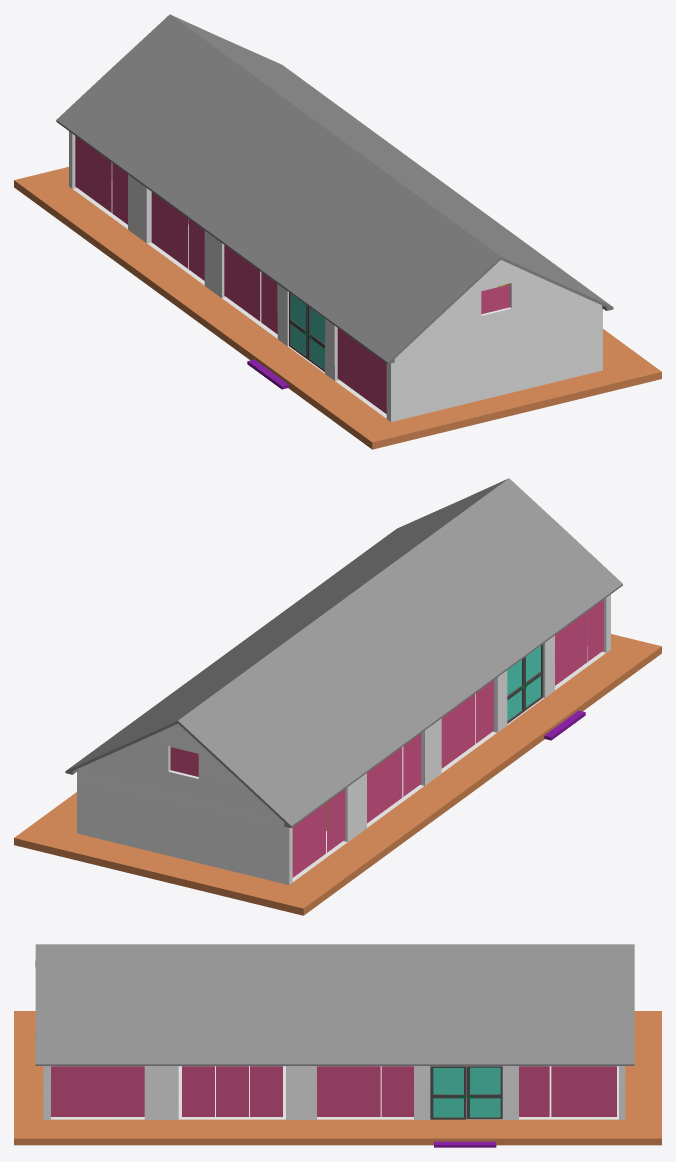
Rendered from HouseOriginal2.obj.
3 views of the same model, one above another, from view 1: azimuth 30°, elevation 25°; view 2: azimuth 150°, elevation 25°; view 3: azimuth 270°, elevation 25° (orthographic). The views are drawn at different scales.
Parts seen in each view (by area): view 1: Object03, Object07, Foundation, Door_Glass04, Door_Glass, Door_Glass01; view 2: Object03, Object07, Foundation, Door_Glass04, Door_Glass, Door_Glass01; view 3: Object03, Foundation, Door_Glass04, Object07, Door_Glass02, Door_Glass03, Door06, Door03, Box03.
Part boxes in pixels (box(x1,y1,x2,y2)): Object03: box(56, 14, 613, 364); Object07: box(69, 131, 602, 421); Foundation: box(14, 167, 661, 449); Door_Glass04: box(75, 136, 509, 413); Door_Glass: box(291, 294, 306, 355); Door_Glass01: box(310, 308, 325, 368); Object03: box(65, 478, 622, 827); Object07: box(77, 594, 610, 884); Foundation: box(14, 634, 661, 915); Door_Glass04: box(170, 599, 603, 877); Door_Glass: box(507, 660, 521, 720); Door_Glass01: box(526, 646, 540, 706); Object03: box(35, 944, 634, 1065); Foundation: box(14, 1011, 661, 1145); Door_Glass04: box(51, 1066, 616, 1116); Object07: box(43, 1066, 625, 1120); Door_Glass02: box(470, 1067, 500, 1117); Door_Glass03: box(433, 1068, 463, 1117); Door06: box(430, 1066, 466, 1119); Door03: box(467, 1066, 502, 1119); Box03: box(434, 1141, 496, 1147).
Size of what is drawn, in the model's own units: 21.72 by 10.22 by 44.32.
